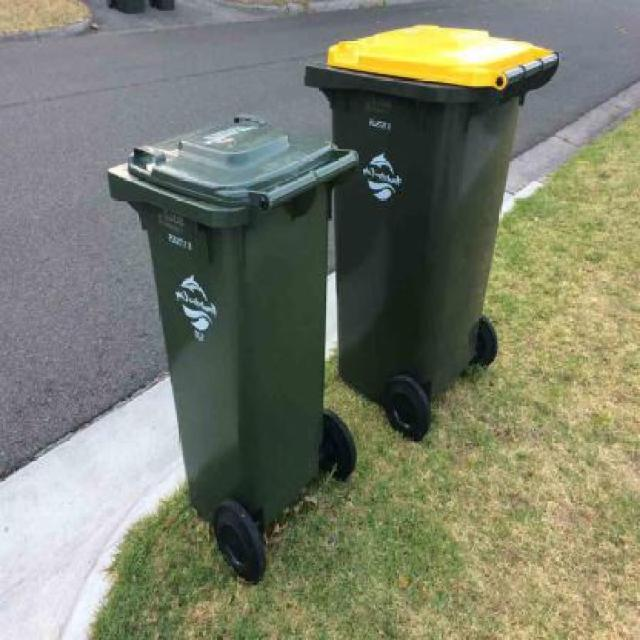garbage container: (102, 111, 364, 594), (298, 16, 564, 447)
